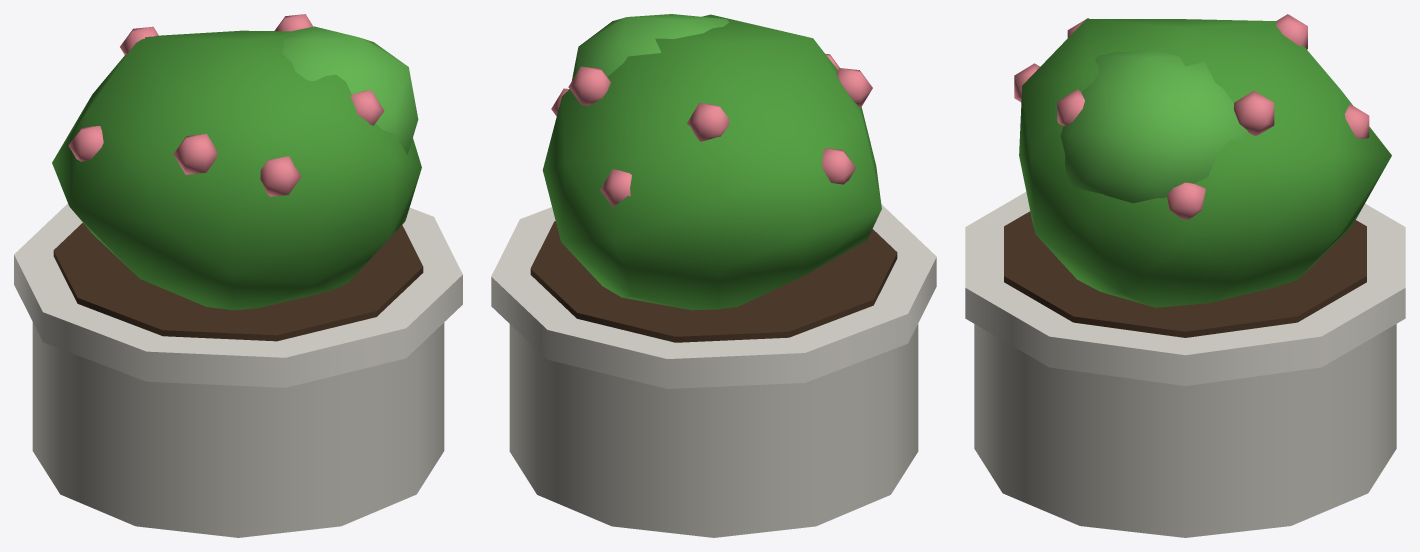
File: Planter.glb
3 views of the same model, side by side, from view 1: azimuth 30°, elevation 25°; view 2: azimuth 150°, elevation 25°; view 3: azimuth 270°, elevation 25° (orthographic). The views are drawn at different scales.
Visible parts, largest first — view 1: Planter; view 2: Planter; view 3: Planter.
Boxes of the visible parts, x1=… form: Planter: x1=14, y1=14, x2=462, y2=537; Planter: x1=491, y1=14, x2=936, y2=537; Planter: x1=965, y1=14, x2=1405, y2=537.
Size of the model in its own units: 1.36 by 1.36 by 1.29.
